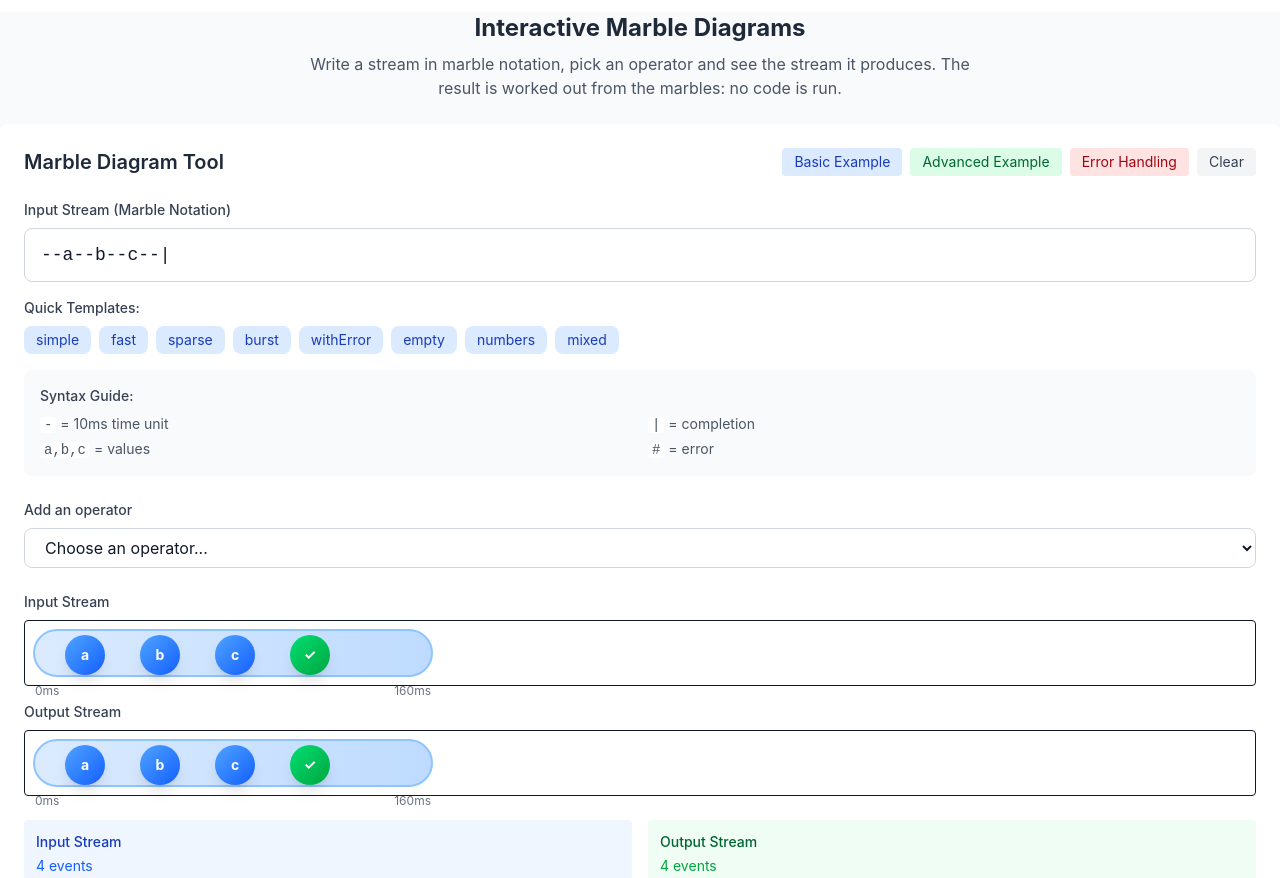
Scenario: MarbleDiagramTool › take(0) stays 0 and the output completes at once
Step 1. Select "Take - Emit only the first N values, then complete" in the dropdown labelled "Add an operator" → {"x": 640, "y": 548}, box 24,528 -> 1256,568
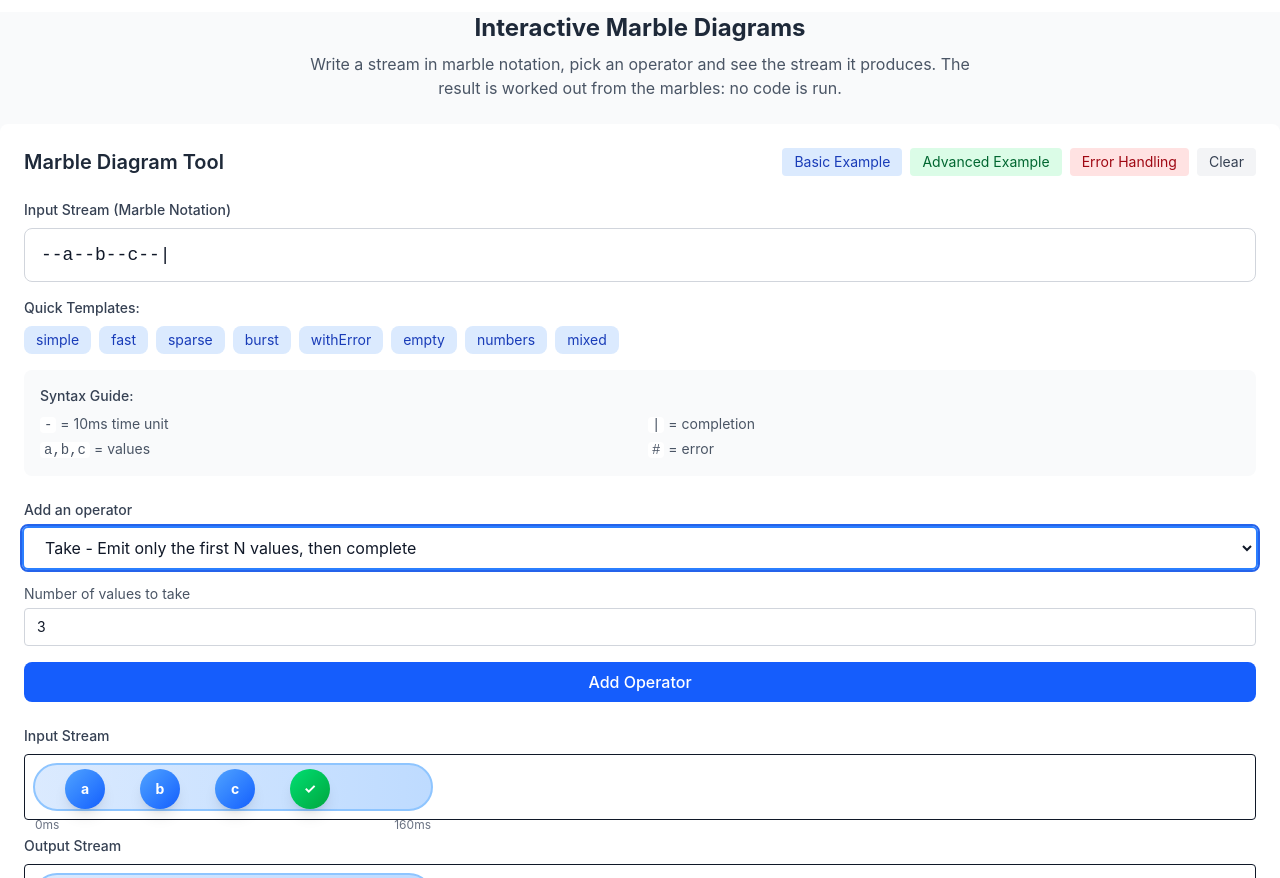
Step 2. Replace the text in the number field labelled "Number of values to take" with "0" → {"x": 640, "y": 627}, box 24,608 -> 1256,646
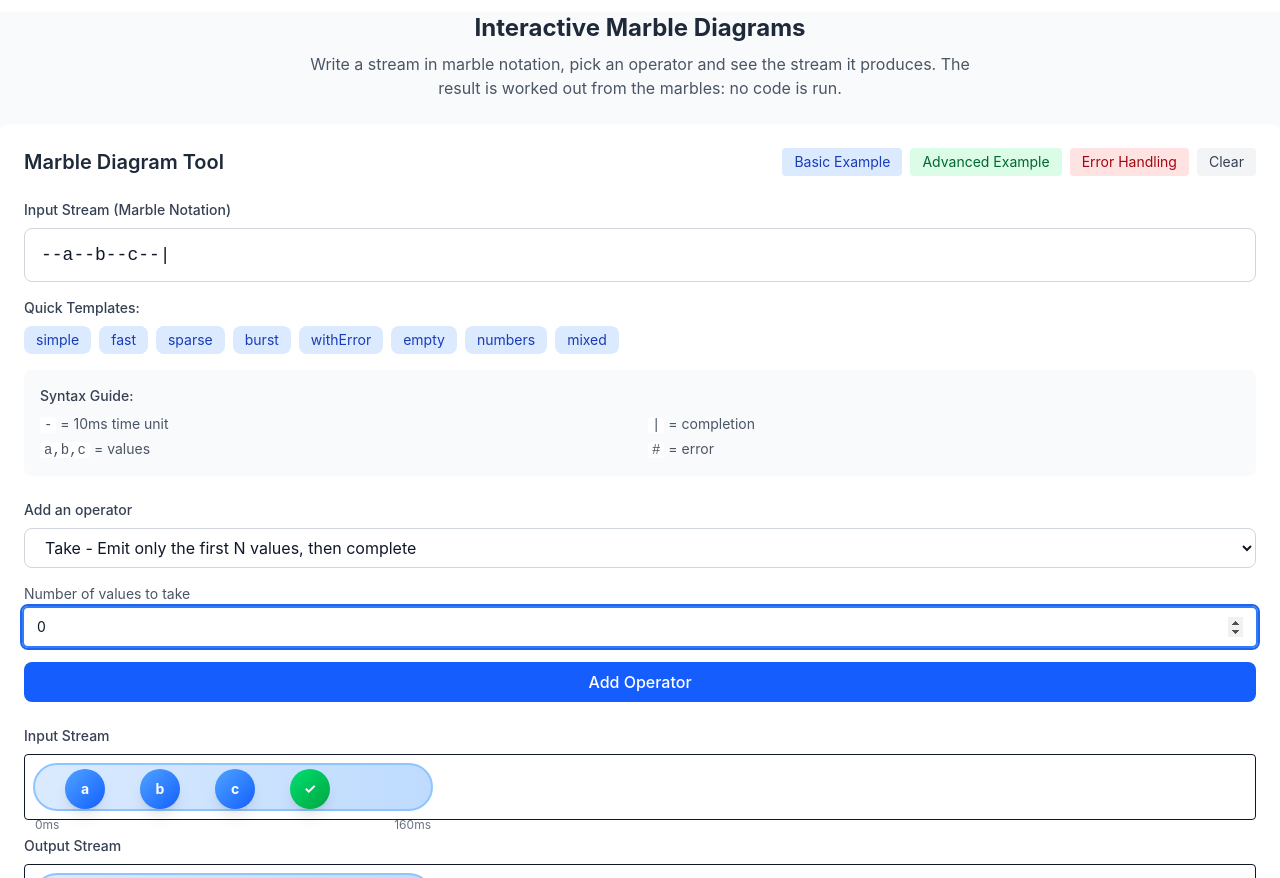
Step 3. Click the button "Add Operator" → {"x": 640, "y": 682}, box 24,662 -> 1256,702
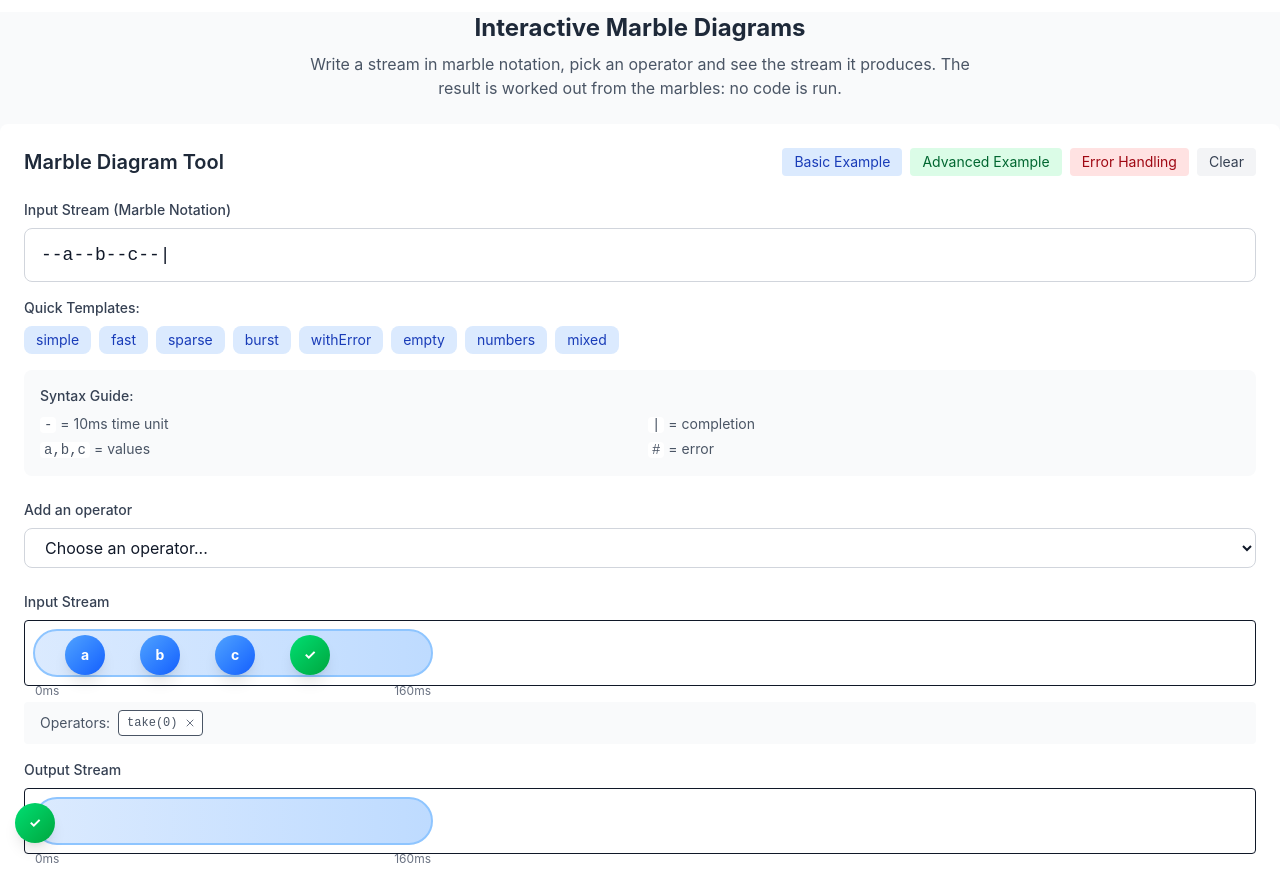
Expected: the list named "operators" reads "take(0)", 127,716 -> 178,730
